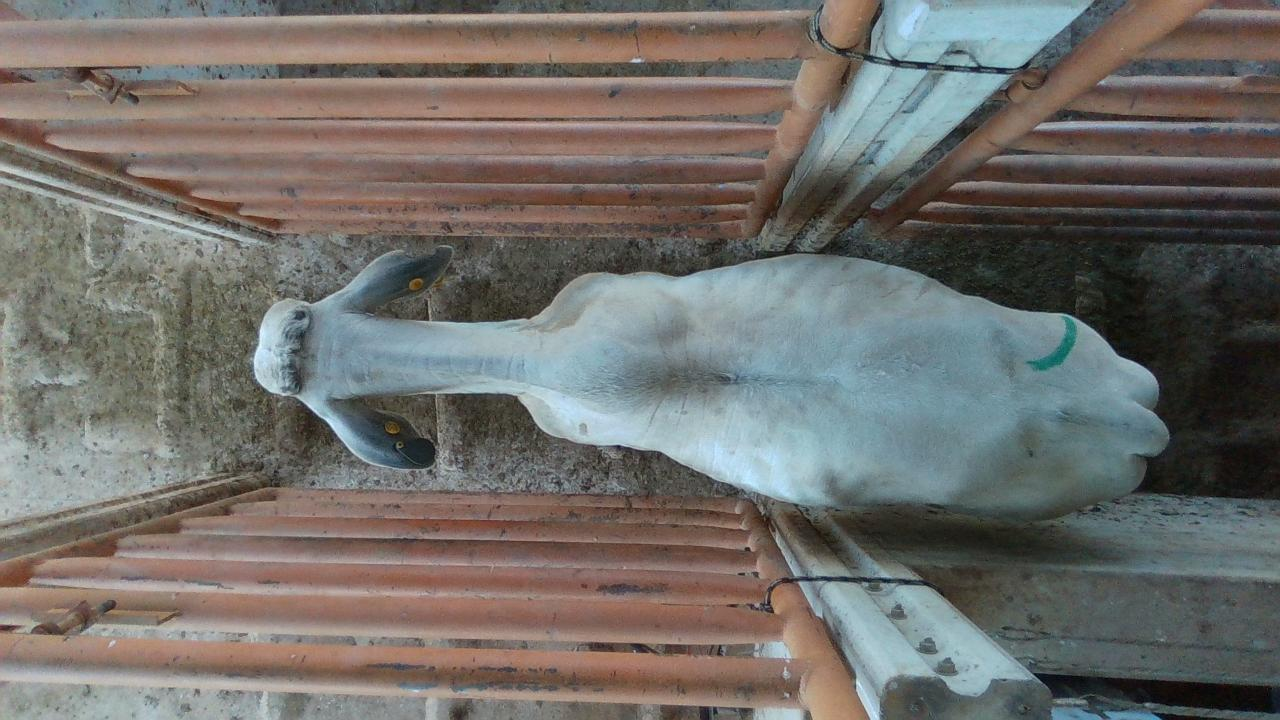cattle: (252, 243, 1171, 524)
